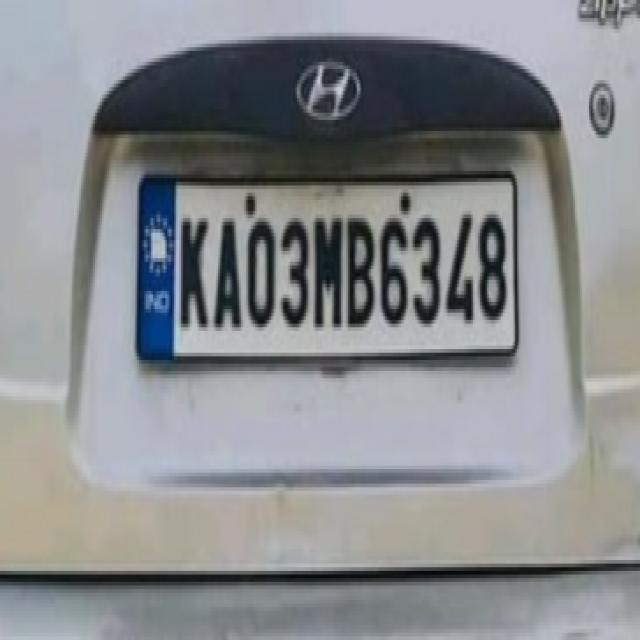0: (245, 207, 276, 333)
3: (276, 213, 311, 338), (413, 210, 446, 333)
4: (441, 213, 478, 335)
6: (377, 204, 412, 334)
8: (476, 190, 513, 324)
A: (208, 206, 244, 333)
B: (344, 209, 376, 337)
K: (175, 203, 211, 333)
M: (311, 203, 346, 334)
